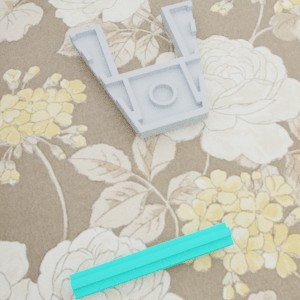lego: (68, 0, 209, 139), (69, 221, 234, 300)
